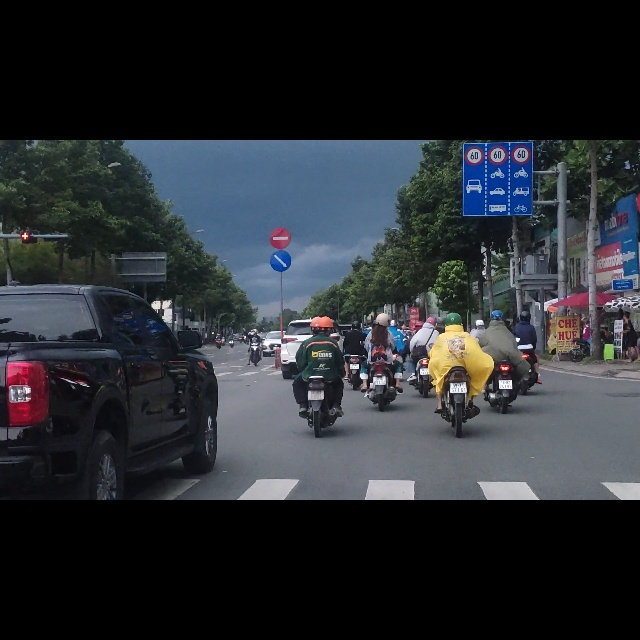bien_cam: (464, 4, 533, 136), (269, 194, 292, 236), (269, 154, 292, 194)
